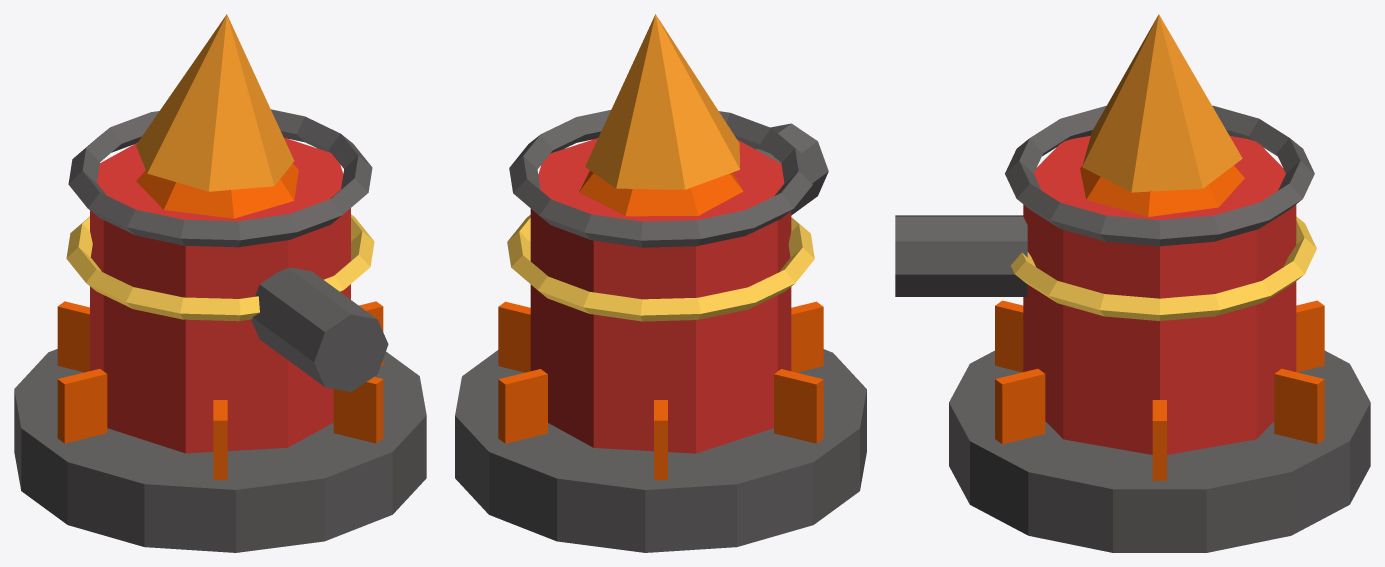
The model's file is TD_FireTower_T2.fbx.
3 renders of one model, left to right at view 1: azimuth 30°, elevation 25°; view 2: azimuth 150°, elevation 25°; view 3: azimuth 270°, elevation 25°, orthographic.
Parts seen in each view (by area): view 1: TD_FireTower_T2_CauldronBody, TD_FireTower_T2_Base, TD_FireTower_T2_Flame_Outer, TD_FireTower_T2_CauldronLip, TD_FireTower_T2_FrontNozzle, TD_FireTower_T2_GoldBodyRing, TD_FireTower_T2_Flame_RedLower, TD_FireTower_T2_LavaPlate_4, TD_FireTower_T2_LavaPlate_6, TD_FireTower_T2_LavaPlate_3, TD_FireTower_T2_LavaPlate_5; view 2: TD_FireTower_T2_CauldronBody, TD_FireTower_T2_Base, TD_FireTower_T2_Flame_Outer, TD_FireTower_T2_CauldronLip, TD_FireTower_T2_GoldBodyRing, TD_FireTower_T2_Flame_RedLower, TD_FireTower_T2_LavaPlate_2, TD_FireTower_T2_LavaPlate_4, TD_FireTower_T2_LavaPlate_1, TD_FireTower_T2_LavaPlate_5, TD_FireTower_T2_FrontNozzle, TD_FireTower_T2_LavaPlate_3; view 3: TD_FireTower_T2_CauldronBody, TD_FireTower_T2_Base, TD_FireTower_T2_Flame_Outer, TD_FireTower_T2_CauldronLip, TD_FireTower_T2_FrontNozzle, TD_FireTower_T2_GoldBodyRing, TD_FireTower_T2_Flame_RedLower, TD_FireTower_T2_LavaPlate_2, TD_FireTower_T2_LavaPlate_6, TD_FireTower_T2_LavaPlate_5, TD_FireTower_T2_LavaPlate_3, TD_FireTower_T2_LavaPlate_1.
Boxes of the visible parts, x1=… form: TD_FireTower_T2_CauldronBody: x1=90, y1=137, x2=350, y2=453; TD_FireTower_T2_Base: x1=14, y1=349, x2=426, y2=552; TD_FireTower_T2_Flame_Outer: x1=136, y1=14, x2=294, y2=191; TD_FireTower_T2_CauldronLip: x1=68, y1=109, x2=372, y2=247; TD_FireTower_T2_FrontNozzle: x1=251, y1=268, x2=388, y2=392; TD_FireTower_T2_GoldBodyRing: x1=66, y1=214, x2=374, y2=321; TD_FireTower_T2_Flame_RedLower: x1=136, y1=163, x2=298, y2=218; TD_FireTower_T2_LavaPlate_4: x1=57, y1=369, x2=107, y2=443; TD_FireTower_T2_LavaPlate_6: x1=333, y1=377, x2=383, y2=443; TD_FireTower_T2_LavaPlate_3: x1=57, y1=301, x2=89, y2=372; TD_FireTower_T2_LavaPlate_5: x1=213, y1=400, x2=227, y2=479; TD_FireTower_T2_CauldronBody: x1=530, y1=138, x2=791, y2=453; TD_FireTower_T2_Base: x1=455, y1=349, x2=866, y2=552; TD_FireTower_T2_Flame_Outer: x1=585, y1=14, x2=739, y2=189; TD_FireTower_T2_CauldronLip: x1=509, y1=110, x2=812, y2=247; TD_FireTower_T2_GoldBodyRing: x1=507, y1=215, x2=814, y2=321; TD_FireTower_T2_Flame_RedLower: x1=579, y1=170, x2=743, y2=216; TD_FireTower_T2_LavaPlate_2: x1=498, y1=369, x2=547, y2=443; TD_FireTower_T2_LavaPlate_4: x1=774, y1=369, x2=823, y2=443; TD_FireTower_T2_LavaPlate_1: x1=498, y1=301, x2=530, y2=372; TD_FireTower_T2_LavaPlate_5: x1=791, y1=301, x2=823, y2=372; TD_FireTower_T2_FrontNozzle: x1=748, y1=123, x2=828, y2=215; TD_FireTower_T2_LavaPlate_3: x1=654, y1=400, x2=667, y2=479; TD_FireTower_T2_CauldronBody: x1=1023, y1=135, x2=1296, y2=454; TD_FireTower_T2_Base: x1=949, y1=350, x2=1370, y2=552; TD_FireTower_T2_Flame_Outer: x1=1082, y1=14, x2=1242, y2=192; TD_FireTower_T2_CauldronLip: x1=1005, y1=105, x2=1314, y2=246; TD_FireTower_T2_FrontNozzle: x1=895, y1=215, x2=1027, y2=296; TD_FireTower_T2_GoldBodyRing: x1=1010, y1=216, x2=1316, y2=320; TD_FireTower_T2_Flame_RedLower: x1=1080, y1=165, x2=1244, y2=216; TD_FireTower_T2_LavaPlate_2: x1=1274, y1=368, x2=1324, y2=444; TD_FireTower_T2_LavaPlate_6: x1=995, y1=368, x2=1045, y2=444; TD_FireTower_T2_LavaPlate_5: x1=995, y1=300, x2=1023, y2=372; TD_FireTower_T2_LavaPlate_3: x1=1296, y1=300, x2=1324, y2=372; TD_FireTower_T2_LavaPlate_1: x1=1152, y1=400, x2=1166, y2=480.
Size of the model in its own units: 0.9944 by 1.21 by 1.15.
